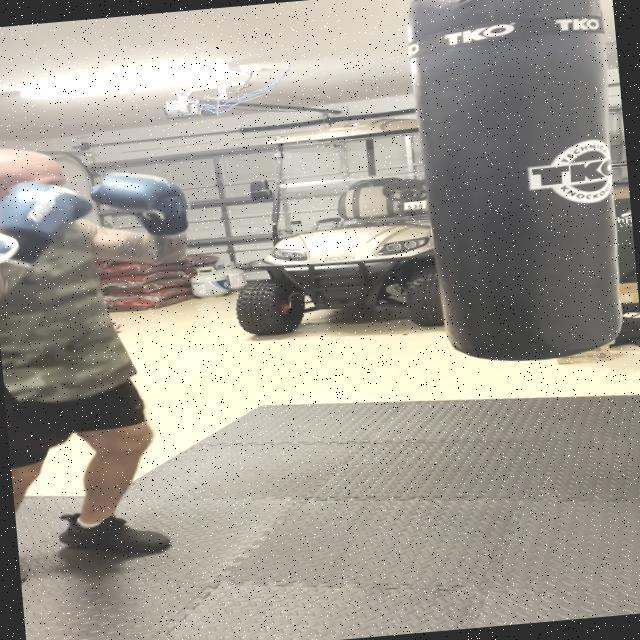no punch: (0, 124, 249, 563)
